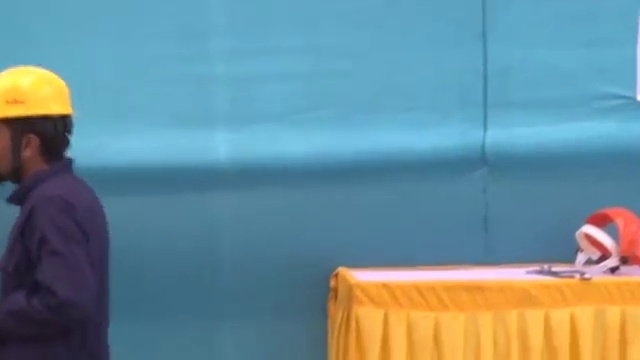helmet: (1, 64, 74, 122)
helmet_on: (1, 65, 76, 203)
person: (1, 63, 103, 360)
